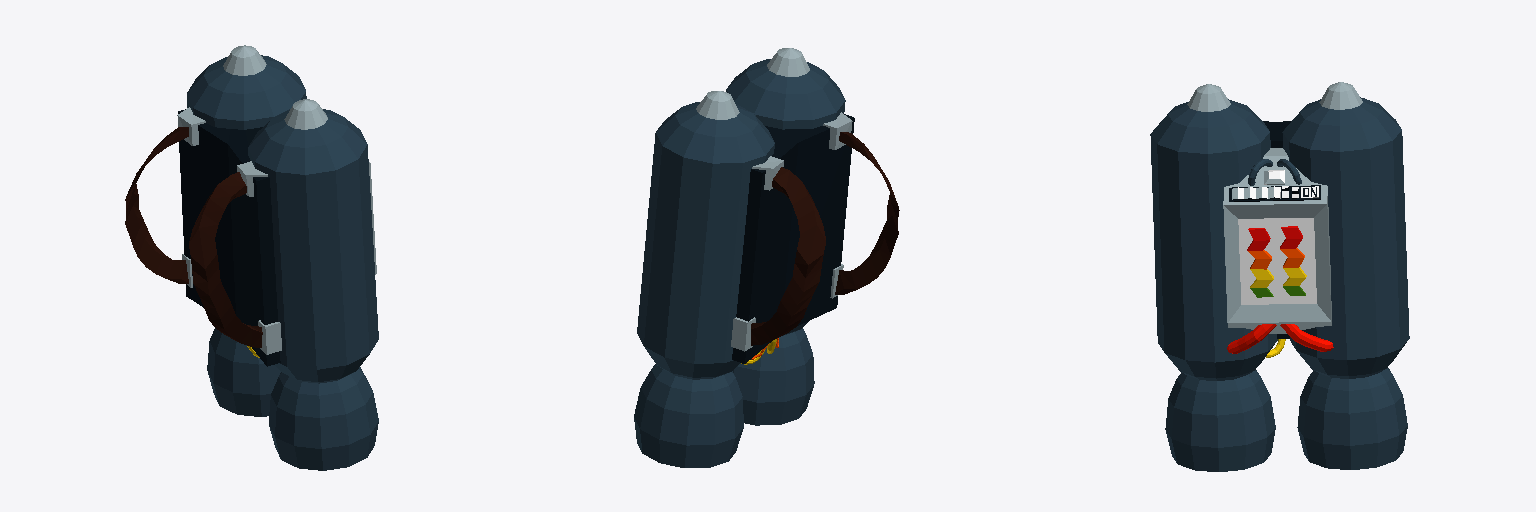
The picture shows the model from 3 angles: view 1: azimuth 30°, elevation 25°; view 2: azimuth 150°, elevation 25°; view 3: azimuth 270°, elevation 25°; orthographic projection.
Parts seen in each view (by area): view 1: group[number redacted]; view 2: group[number redacted]; view 3: group[number redacted].
Boxes of the visible parts, x1,y1,x2,y2 form: group[number redacted]: [125, 45, 378, 470]; group[number redacted]: [634, 48, 899, 467]; group[number redacted]: [1150, 82, 1409, 471].
Size of the model in its own units: 1.97 by 3.51 by 2.25.